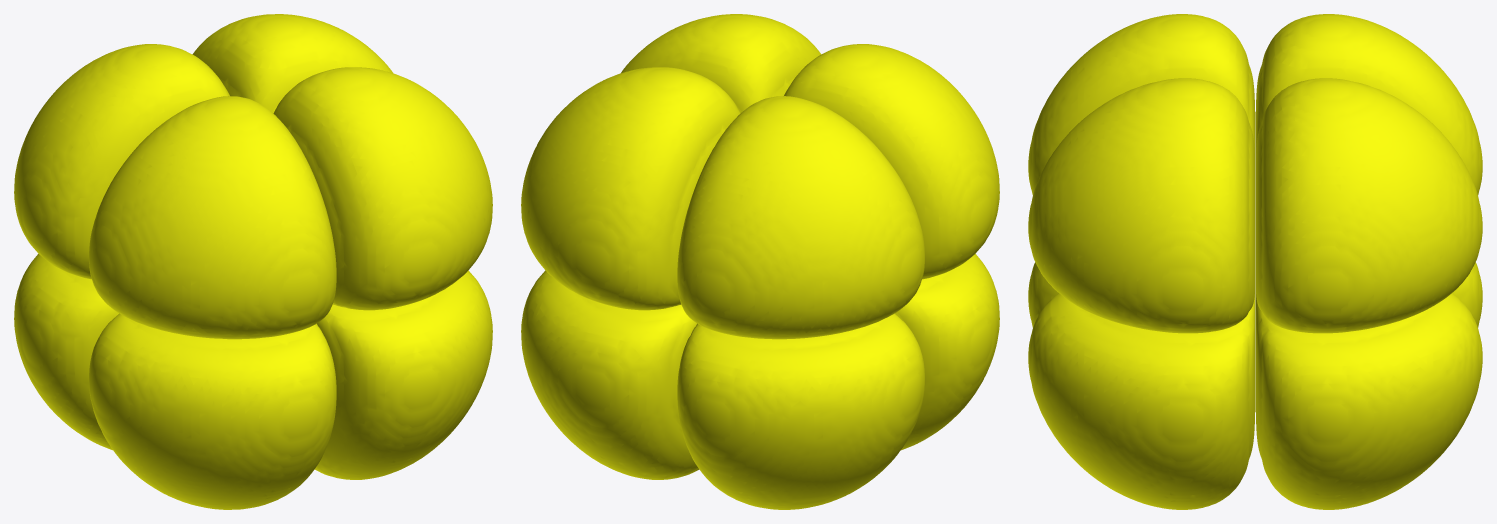
The model's file is orb_n=6_ l=3 _m=-2.fbx.
3 renders of one model, left to right at view 1: azimuth 30°, elevation 25°; view 2: azimuth 150°, elevation 25°; view 3: azimuth 270°, elevation 25°, orthographic. The views are drawn at different scales.
Visible parts, largest first — view 1: orb_n=6_ l=3 _m=-2; view 2: orb_n=6_ l=3 _m=-2; view 3: orb_n=6_ l=3 _m=-2.
Boxes of the visible parts, x1=… form: orb_n=6_ l=3 _m=-2: x1=14, y1=14, x2=492, y2=509; orb_n=6_ l=3 _m=-2: x1=521, y1=14, x2=999, y2=509; orb_n=6_ l=3 _m=-2: x1=1028, y1=14, x2=1482, y2=509.
Bounding box in the file's own units: 16562 × 16562 × 16562.
